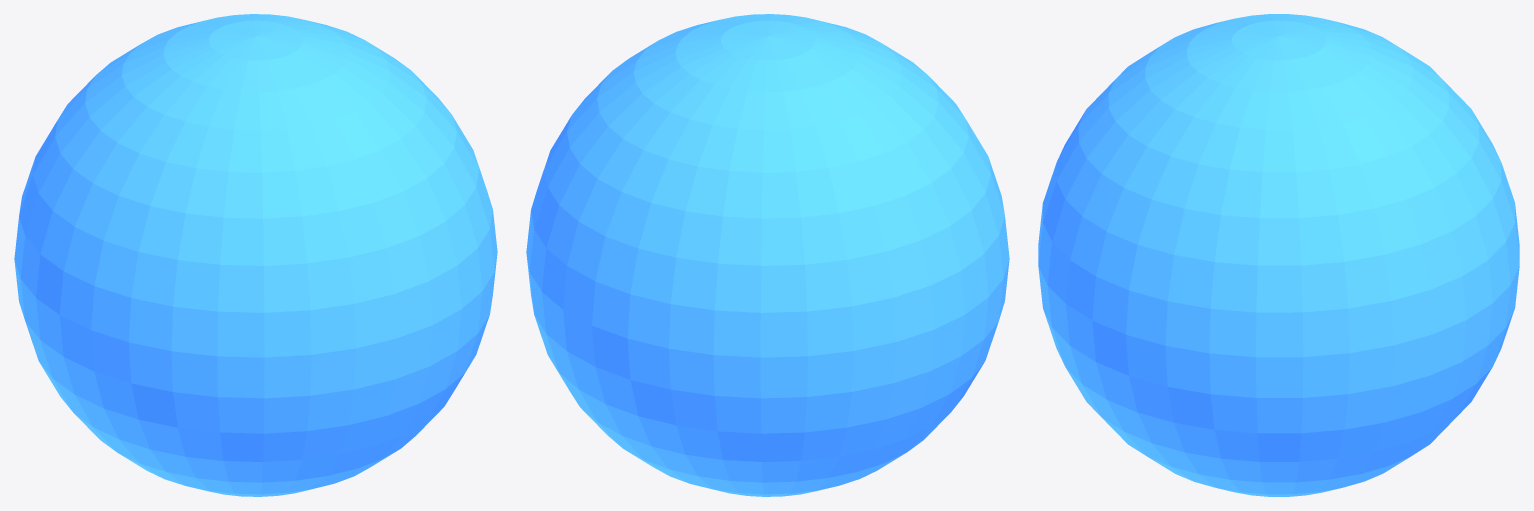
Rendered from CarDotMat.glb.
3 renders of one model, left to right at view 1: azimuth 30°, elevation 25°; view 2: azimuth 150°, elevation 25°; view 3: azimuth 270°, elevation 25°, orthographic.
Parts seen in each view (by area): view 1: CarDot; view 2: CarDot; view 3: CarDot.
Part boxes in pixels (bbox=[...]): CarDot: bbox=[14, 14, 497, 496]; CarDot: bbox=[526, 14, 1009, 496]; CarDot: bbox=[1038, 14, 1519, 496].
Bounding box in the file's own units: 0.1991 × 0.2 × 0.1991.
